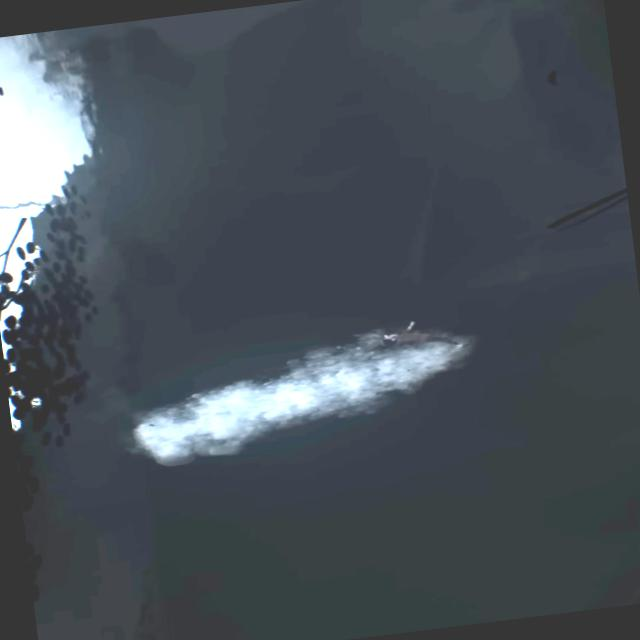boy: (378, 314, 462, 356)
